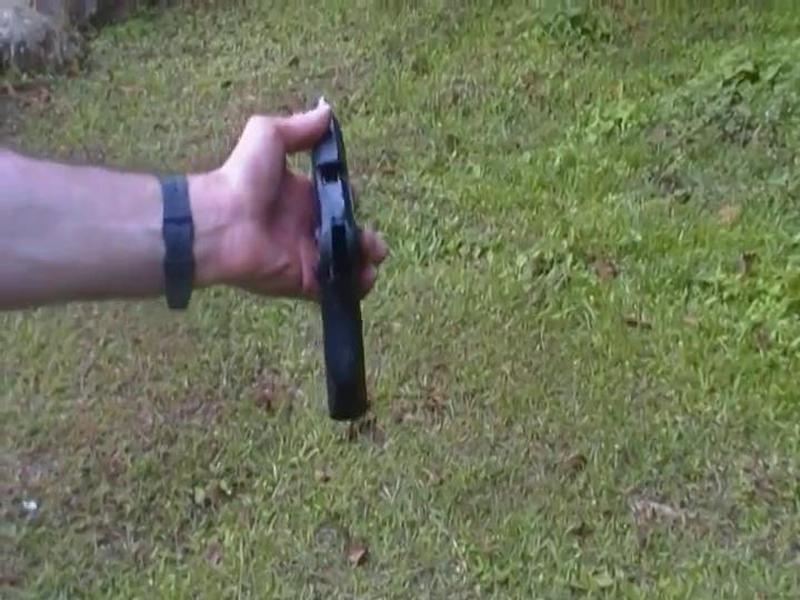Pistola: (278, 89, 394, 435)
